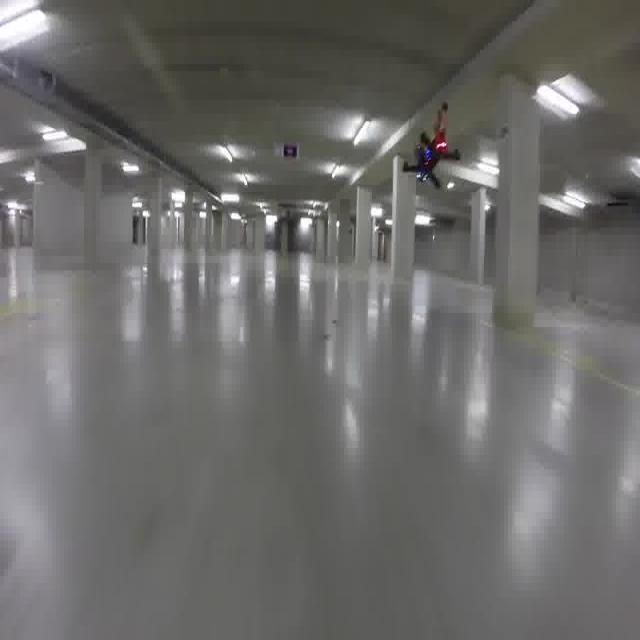drones: (396, 105, 459, 199)
